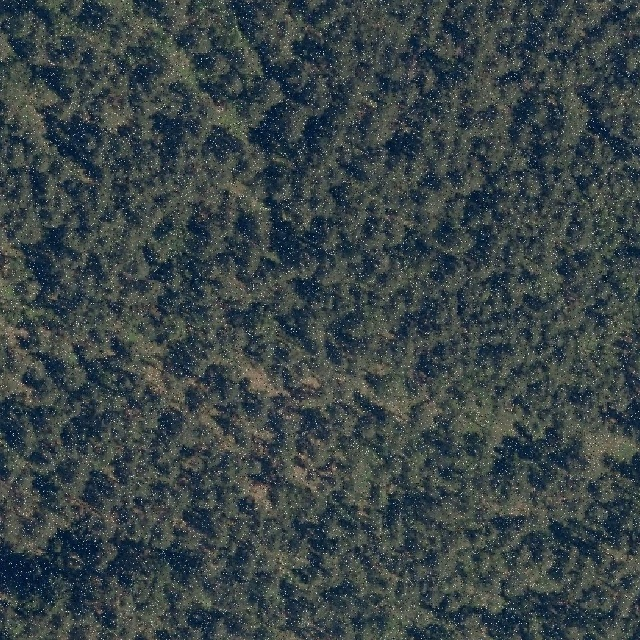vegetation: (2, 0, 638, 640)
